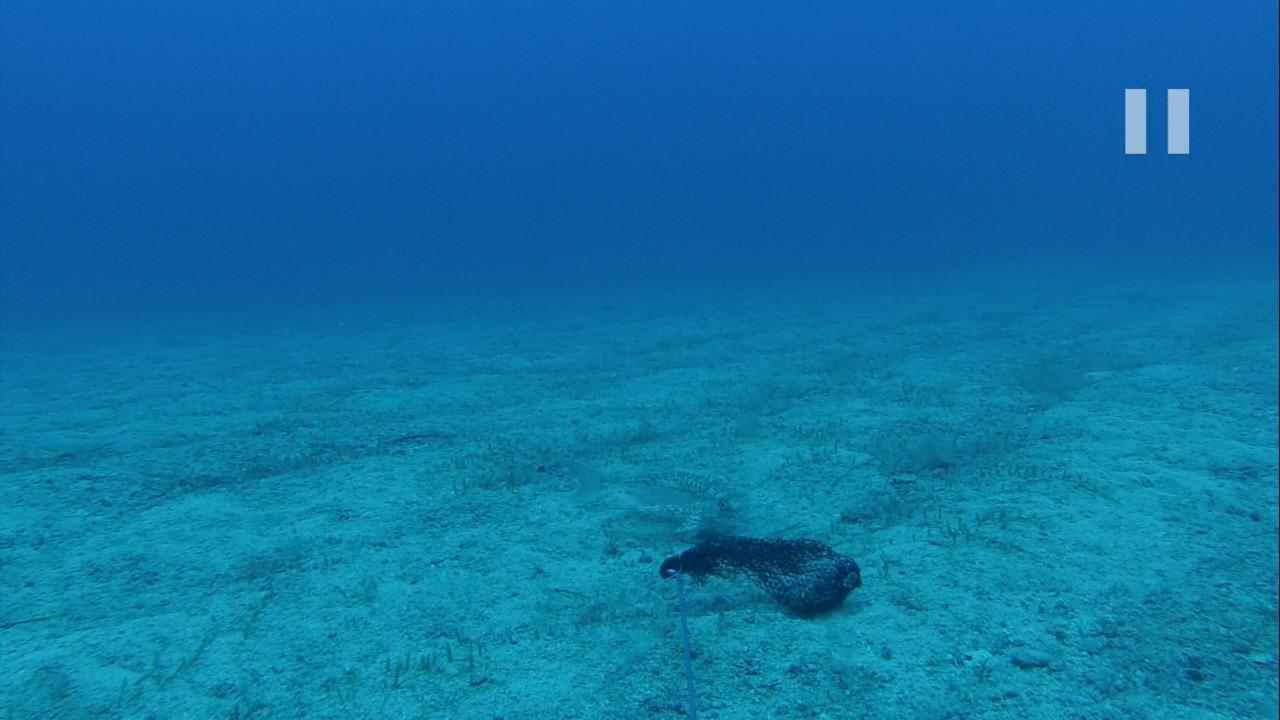dactylopterus: (555, 458, 748, 536)
